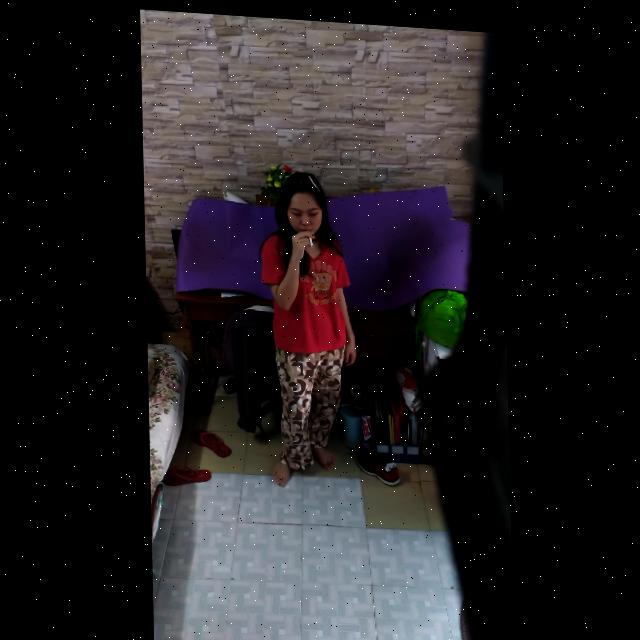cigarette: (307, 233, 312, 243)
